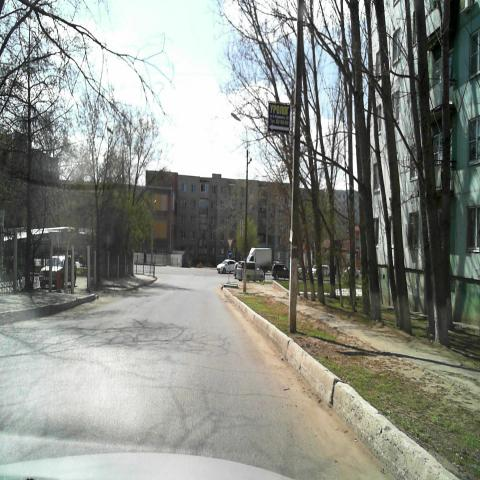2_4: (227, 238, 233, 248)
4_1_2: (227, 249, 234, 260)
